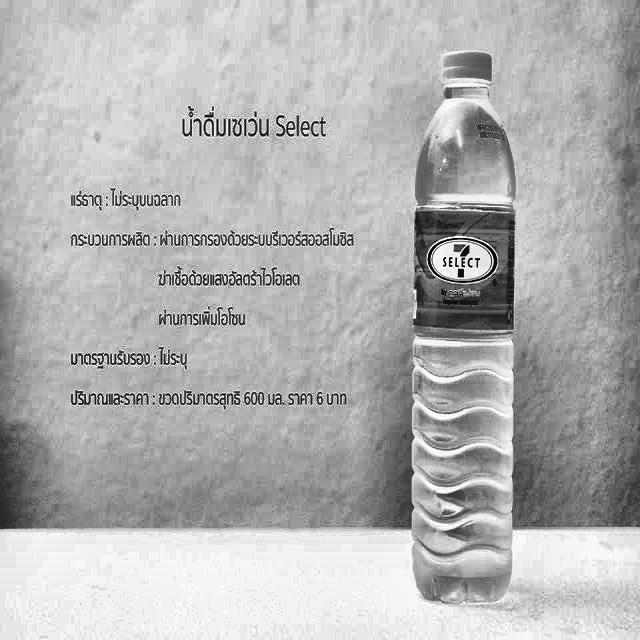waterbottle: (409, 45, 520, 613)
